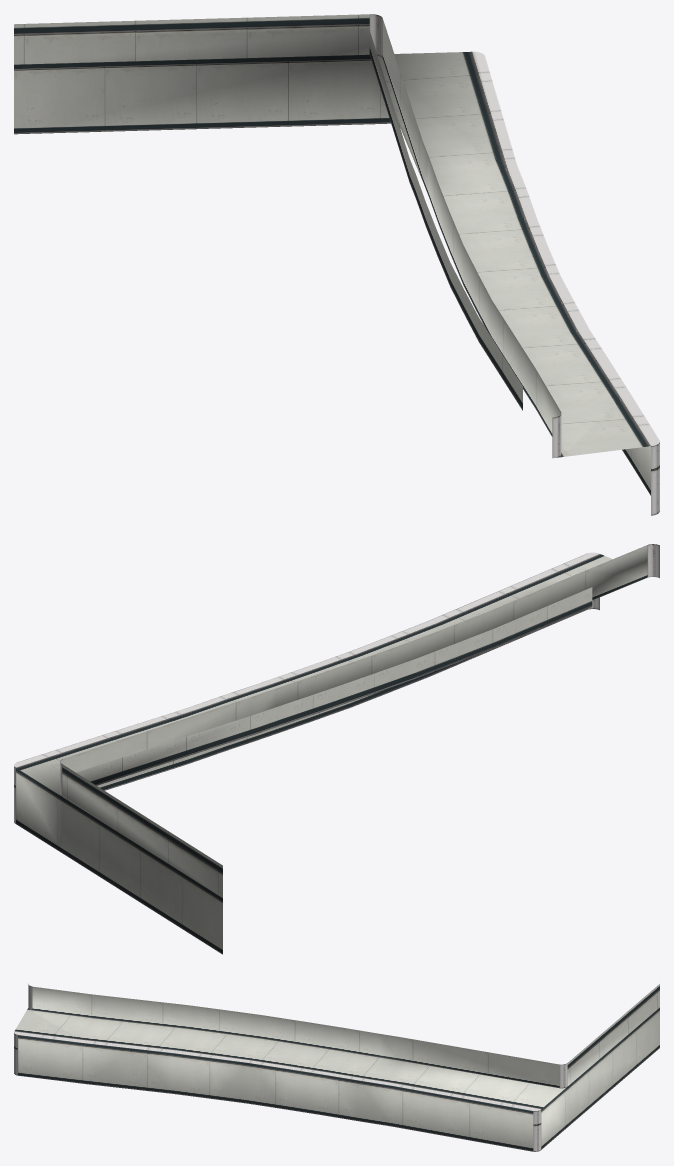
Rendered from STA20_StoreextB01.FBX.
3 views of the same model, one above another, from view 1: azimuth 30°, elevation 25°; view 2: azimuth 150°, elevation 25°; view 3: azimuth 270°, elevation 25° (orthographic). The views are drawn at different scales.
Visible parts, largest first — view 1: STA20_StoreextB01; view 2: STA20_StoreextB01; view 3: STA20_StoreextB01.
Part boxes in pixels (x1,y1,x2,y2): STA20_StoreextB01: (14, 14, 659, 515); STA20_StoreextB01: (14, 544, 659, 954); STA20_StoreextB01: (14, 984, 659, 1151).
Size of the model in its own units: 22.78 by 6.64 by 59.87.
